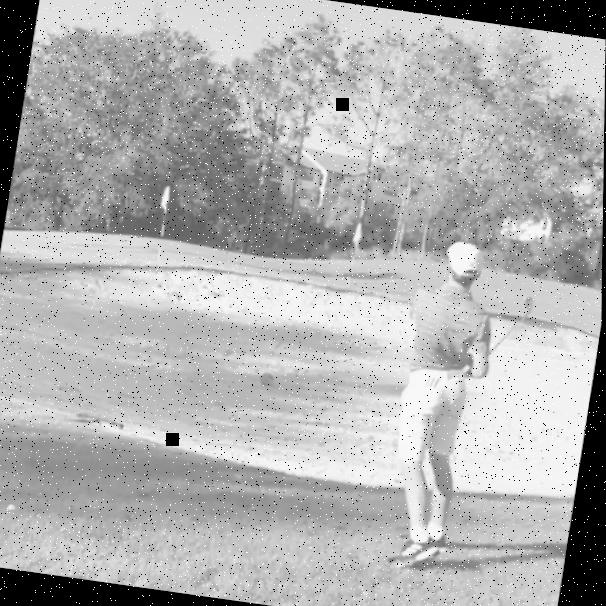ClubHead: (526, 297, 539, 316)
GolfBall: (4, 502, 20, 514), (0, 467, 1, 479)
